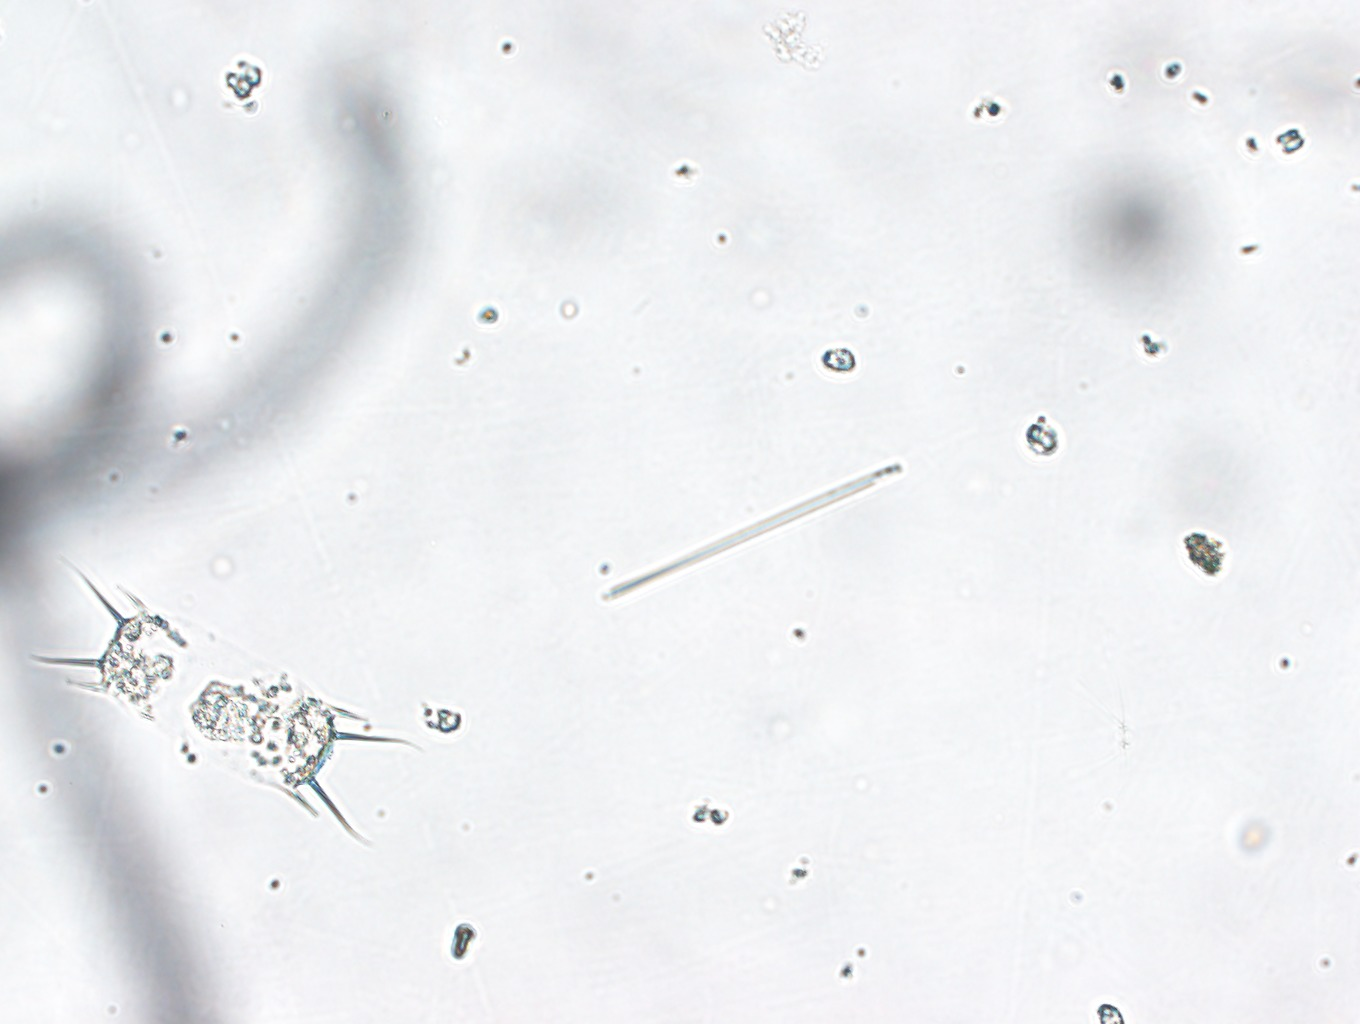biddulphia: (14, 547, 424, 849)
